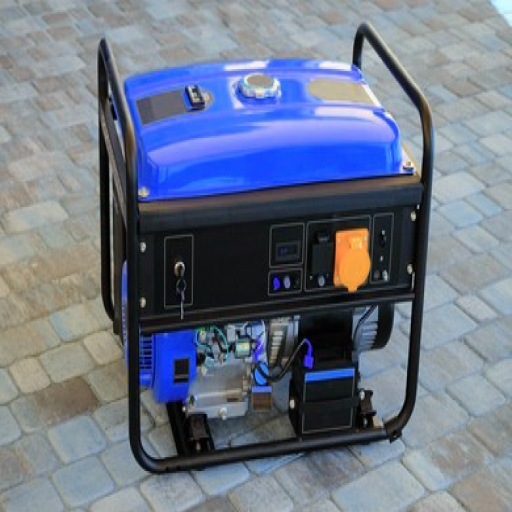portable_generator: (97, 22, 436, 471)
